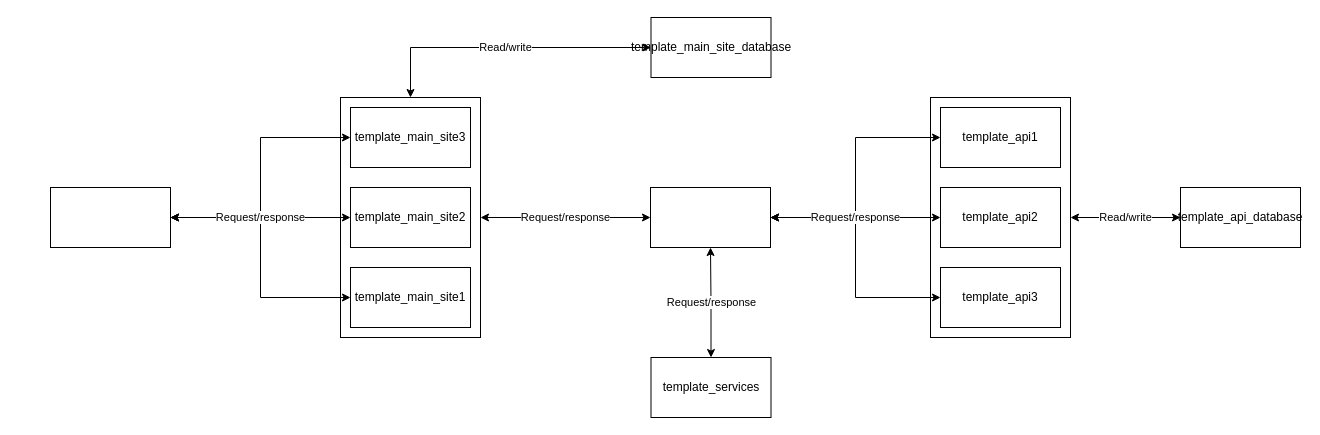
The diagram is 1320 pixels wide and 435 high, and some of its shapes have lost their labels. The shapes that lost their labels are listed below. From the top down, each one's box as (x1, y1, x2, y2) in pixels, then its label:
(50, 186, 170, 248): template_main_site_load_balancer
(650, 186, 770, 248): template_api_load_balancer
